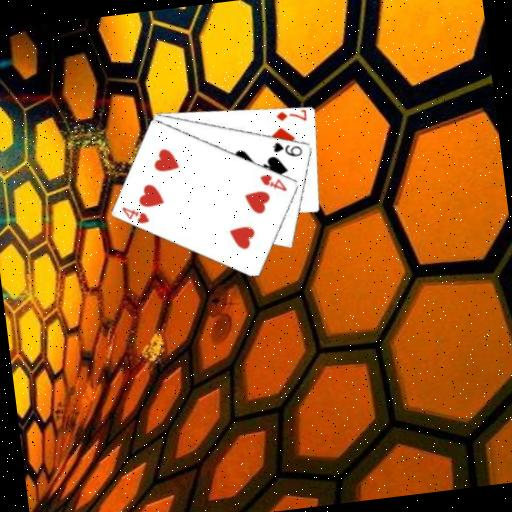4H: (256, 169, 289, 196), (119, 201, 152, 228)
7D: (272, 106, 309, 126)
9S: (269, 136, 305, 161)
